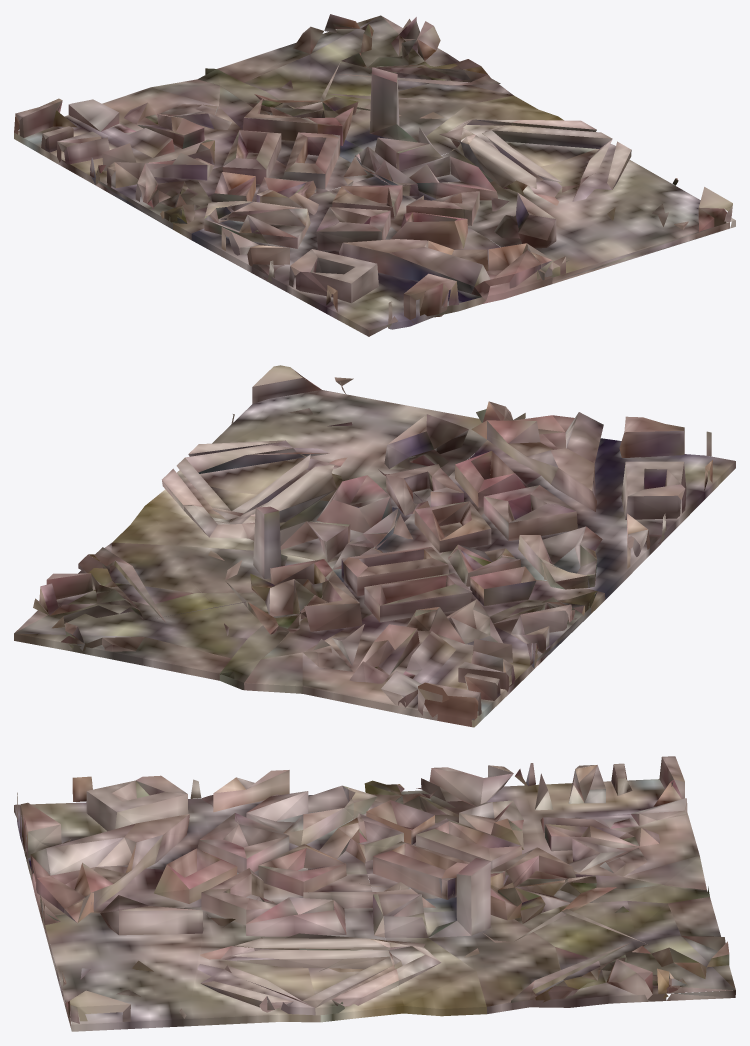
3 views of the same model, one above another, from view 1: azimuth 30°, elevation 25°; view 2: azimuth 150°, elevation 25°; view 3: azimuth 270°, elevation 25° (orthographic). The views are drawn at different scales.
Parts seen in each view (by area): view 1: Mesh_0; view 2: Mesh_0; view 3: Mesh_0.
Boxes of the visible parts, x1=… form: Mesh_0: x1=14, y1=14, x2=735, y2=336; Mesh_0: x1=14, y1=365, x2=735, y2=727; Mesh_0: x1=14, y1=756, x2=735, y2=1031.
Bounding box in the file's own units: 533 × 79.49 × 659.
Materials: 2 (2 with a texture image).
